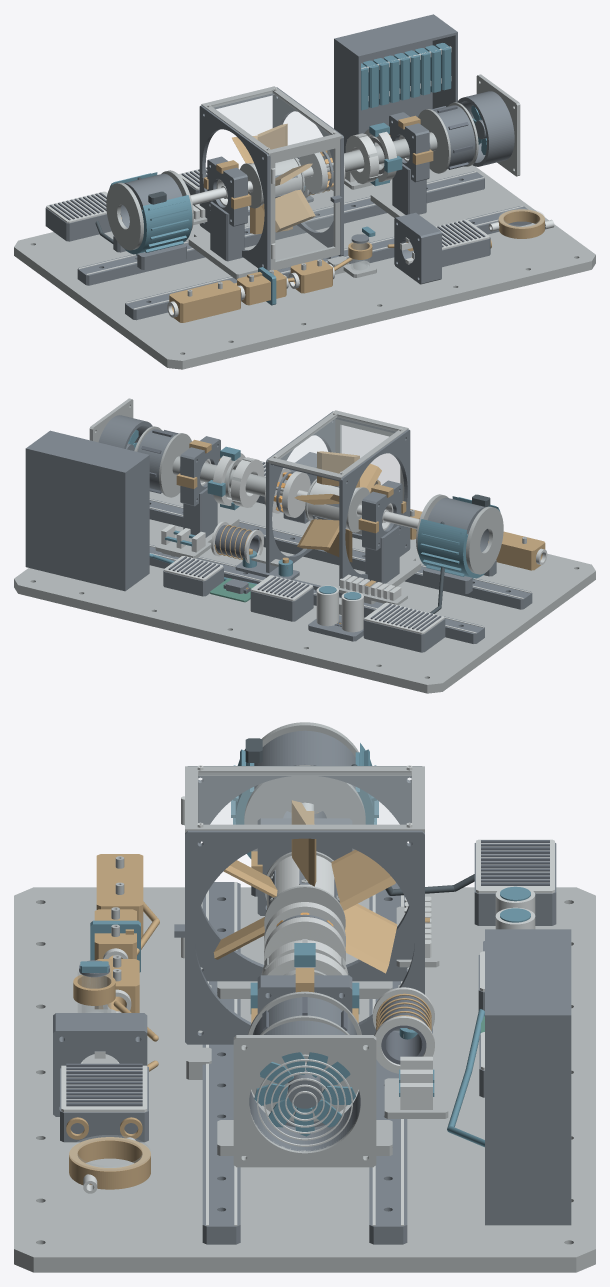
The picture shows the model from 3 angles, top to bottom: view 1: azimuth 30°, elevation 25°; view 2: azimuth 150°, elevation 25°; view 3: azimuth 270°, elevation 25°; orthographic projection. The views are drawn at different scales.
Visible parts, largest first — view 1: ME-001:1, ME-028:1, ME-004:1, ME-009:1, ME-031:1, ME-003:1, ME-002:2, ME-015:1, ME-015:2, ME-019:1, ME-030:1, ME-040:1 (+17 smaller); view 2: ME-001:1, ME-028:1, ME-009:1, ME-003:1, ME-031:1, ME-015:1, ME-002:1, ME-015:2, ME-023:1, ME-024:1, ME-030:1, ME-025:1 (+22 smaller); view 3: ME-001:1, ME-028:1, ME-003:1, ME-019:1, ME-031:1, ME-002:1, ME-022:1, ME-009:1, ME-023:1, ME-002:2, ME-040:1, ME-018:1 (+23 smaller).
Boxes of the visible parts, bbox=[...] form: ME-001:1: bbox=[14, 165, 595, 369]; ME-028:1: bbox=[334, 14, 457, 153]; ME-004:1: bbox=[270, 139, 342, 269]; ME-009:1: bbox=[106, 170, 193, 269]; ME-031:1: bbox=[201, 86, 342, 156]; ME-003:1: bbox=[194, 87, 349, 274]; ME-002:2: bbox=[77, 171, 484, 285]; ME-015:1: bbox=[188, 156, 257, 279]; ME-015:2: bbox=[370, 112, 448, 226]; ME-019:1: bbox=[457, 74, 520, 176]; ME-030:1: bbox=[418, 102, 478, 173]; ME-040:1: bbox=[394, 212, 441, 284]; ME-001:1: bbox=[14, 491, 595, 693]; ME-028:1: bbox=[25, 430, 149, 591]; ME-009:1: bbox=[416, 494, 503, 593]; ME-003:1: bbox=[266, 411, 415, 614]; ME-031:1: bbox=[267, 410, 408, 480]; ME-015:1: bbox=[358, 480, 421, 604]; ME-002:1: bbox=[149, 498, 532, 609]; ME-015:2: bbox=[162, 436, 239, 557]; ME-023:1: bbox=[363, 602, 445, 652]; ME-024:1: bbox=[308, 585, 363, 641]; ME-030:1: bbox=[134, 426, 191, 497]; ME-025:1: bbox=[250, 575, 313, 621]; ME-001:1: bbox=[14, 887, 595, 1272]; ME-028:1: bbox=[485, 929, 571, 1225]; ME-003:1: bbox=[185, 766, 424, 1079]; ME-019:1: bbox=[233, 1020, 376, 1167]; ME-031:1: bbox=[185, 765, 424, 832]; ME-002:1: bbox=[202, 882, 240, 1244]; ME-022:1: bbox=[60, 1063, 148, 1142]; ME-009:1: bbox=[231, 722, 378, 896]; ME-023:1: bbox=[474, 839, 556, 925]; ME-002:2: bbox=[369, 882, 407, 1244]; ME-040:1: bbox=[53, 1013, 147, 1116]; ME-018:1: bbox=[254, 1052, 355, 1136].
Size of the model in its own units: 0.62 by 0.2059 by 0.412.
